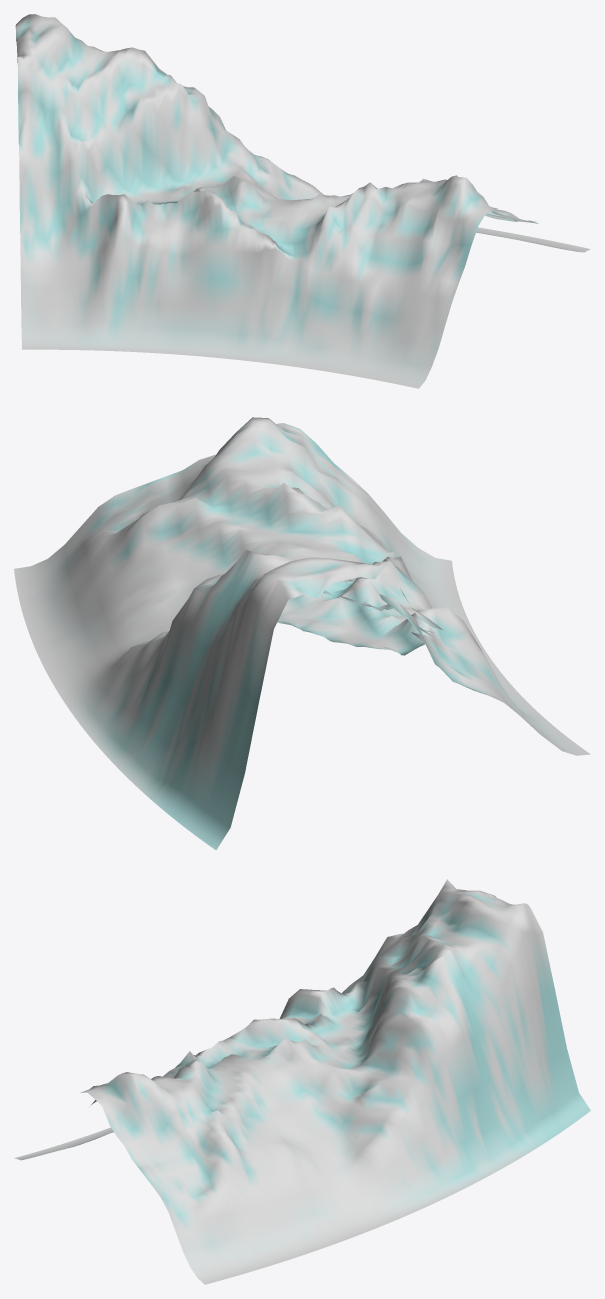
File: far_5.glb
3 views of the same model, one above another, from view 1: azimuth 30°, elevation 25°; view 2: azimuth 150°, elevation 25°; view 3: azimuth 270°, elevation 25° (orthographic). The views are drawn at different scales.
Visible parts, largest first — view 1: Mountain; view 2: Mountain; view 3: Mountain.
Part boxes in pixels (bbox=[...]): Mountain: bbox=[15, 14, 590, 388]; Mountain: bbox=[14, 417, 590, 850]; Mountain: bbox=[14, 879, 590, 1284].
Size of the model in its own units: 1641 by 622 by 1623.
